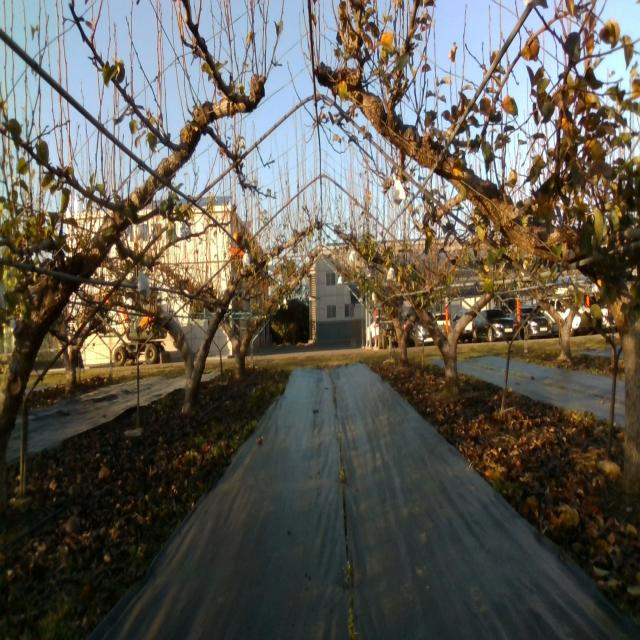pearbags: (392, 175, 406, 212), (136, 272, 150, 296)
